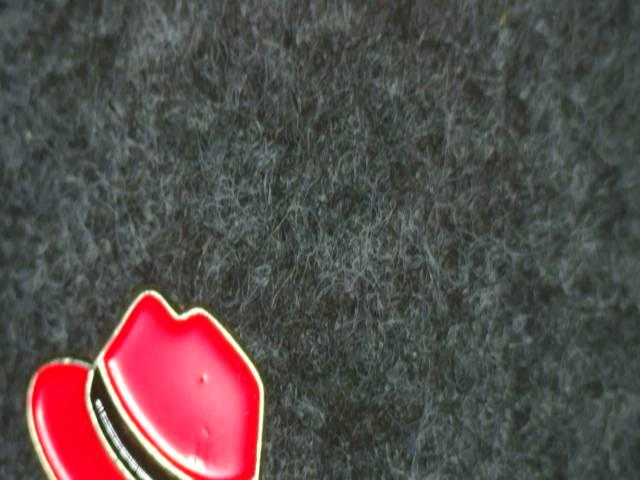Red-Hat: (13, 260, 300, 480)
